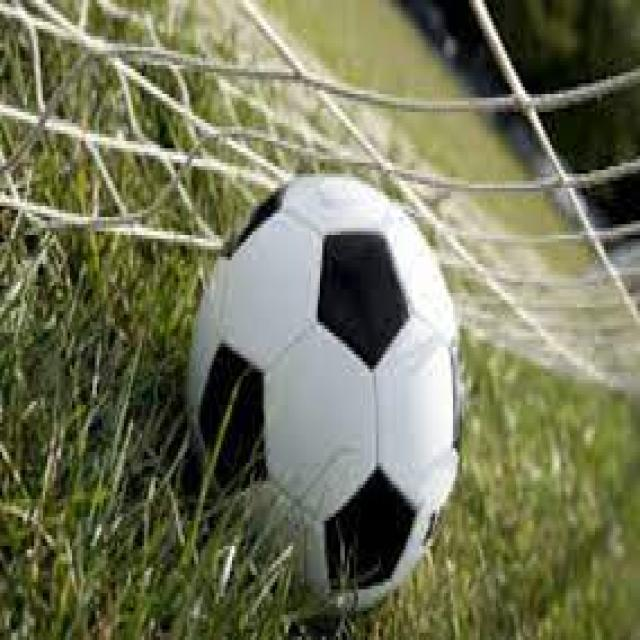ball: (184, 176, 462, 619)
